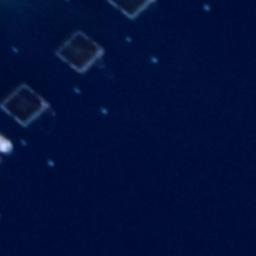square_cover: (55, 30, 106, 75), (2, 83, 49, 128), (103, 1, 159, 23)
